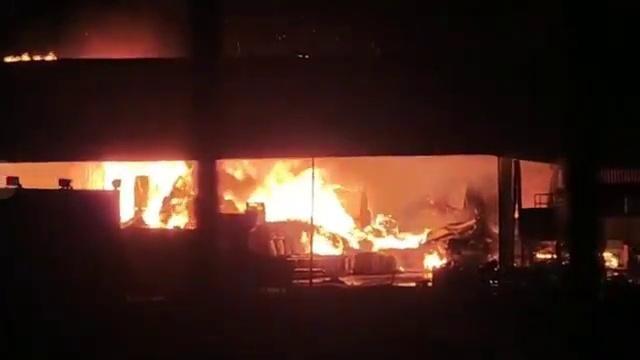fire: (118, 164, 189, 230), (265, 174, 352, 225)
